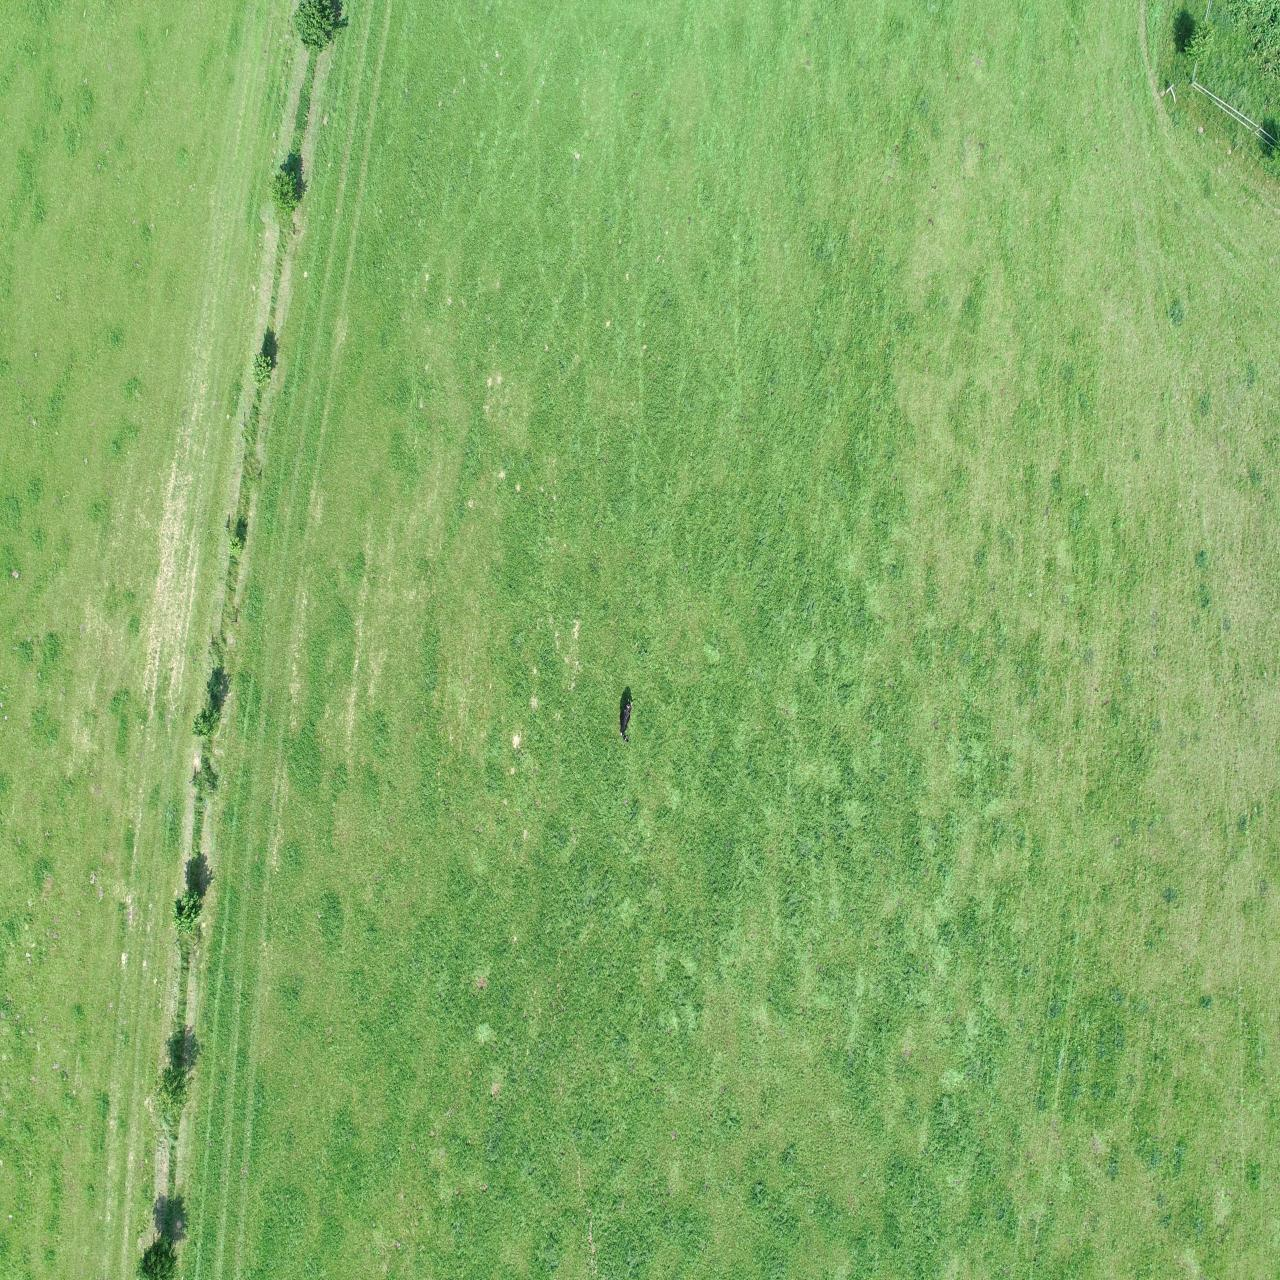cow: (617, 697, 636, 745)
